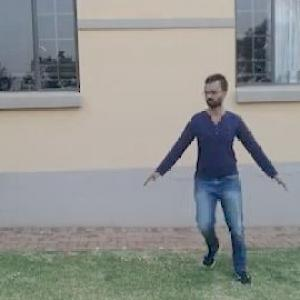land: (154, 76, 290, 256)
